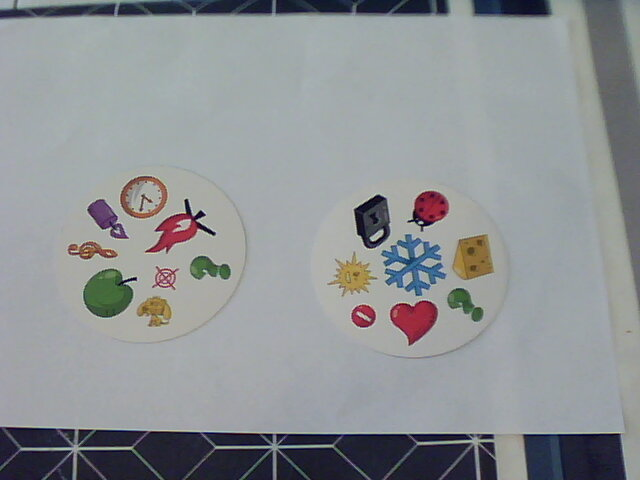bougie: (83, 197, 132, 241)
cadenas: (351, 193, 392, 249)
chien: (135, 295, 177, 328)
cible: (150, 262, 183, 293)
coccinelle: (404, 188, 452, 233)
coeur: (388, 299, 440, 347)
feu: (143, 196, 218, 256)
flocon: (382, 234, 448, 298)
fromage: (451, 233, 496, 282)
horloge: (119, 174, 169, 219)
note: (66, 236, 120, 267)
point_interrogation: (446, 286, 485, 325), (188, 254, 233, 283)
pomme: (82, 267, 139, 320)
sens_interdit: (350, 302, 377, 329)
soleil: (325, 249, 381, 300)
